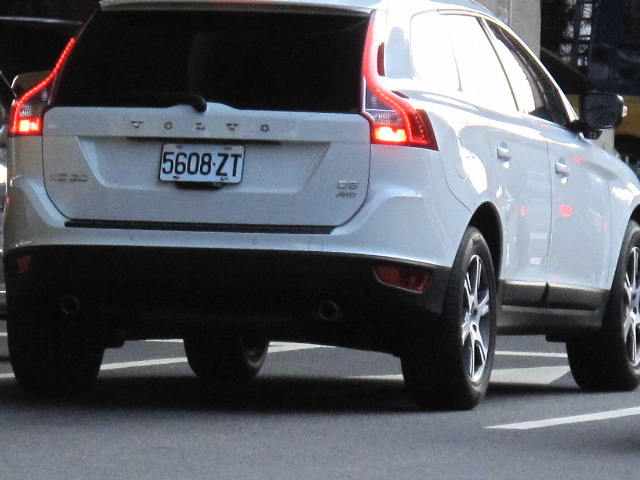plate: (156, 139, 246, 187)
